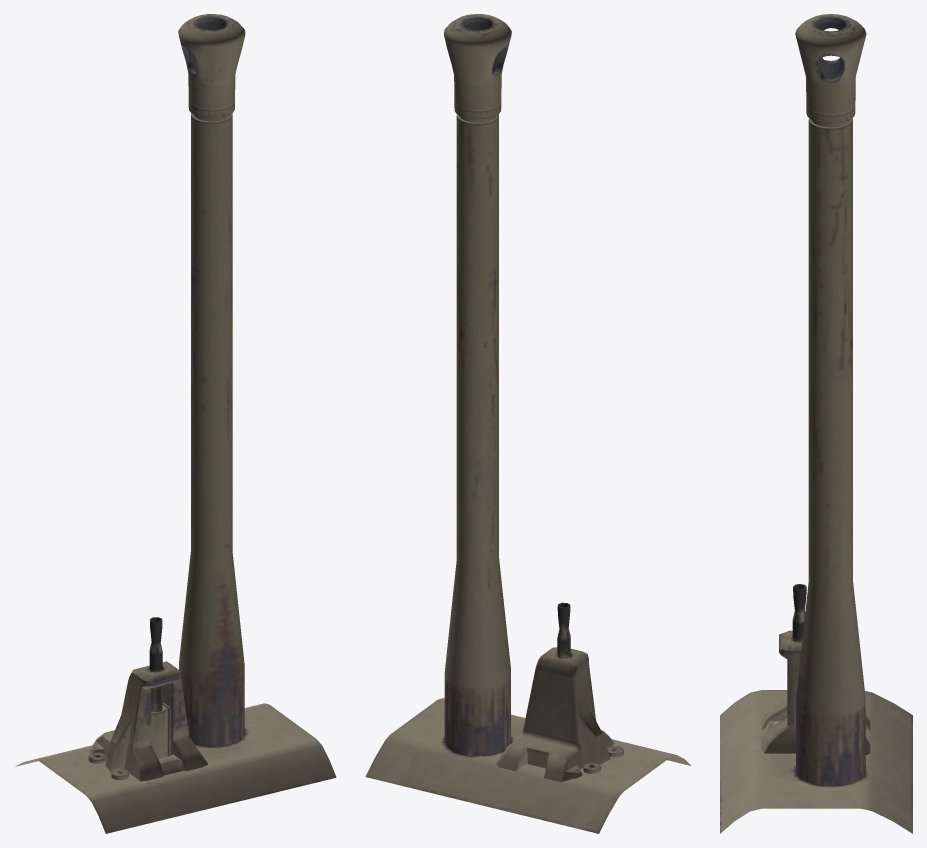
File: Gun_01.glb
The picture shows the model from 3 angles, left to right: view 1: azimuth 30°, elevation 25°; view 2: azimuth 150°, elevation 25°; view 3: azimuth 270°, elevation 25°; orthographic projection. The views are drawn at different scales.
Parts seen in each view (by area): view 1: set_0_group_0; view 2: set_0_group_0; view 3: set_0_group_0.
Part boxes in pixels (bbox=[...]): set_0_group_0: bbox=[15, 14, 336, 833]; set_0_group_0: bbox=[365, 14, 690, 833]; set_0_group_0: bbox=[720, 14, 912, 833].
Size of the model in its own units: 0.6828 by 2.07 by 0.4689.
1 material, 1 textured.
